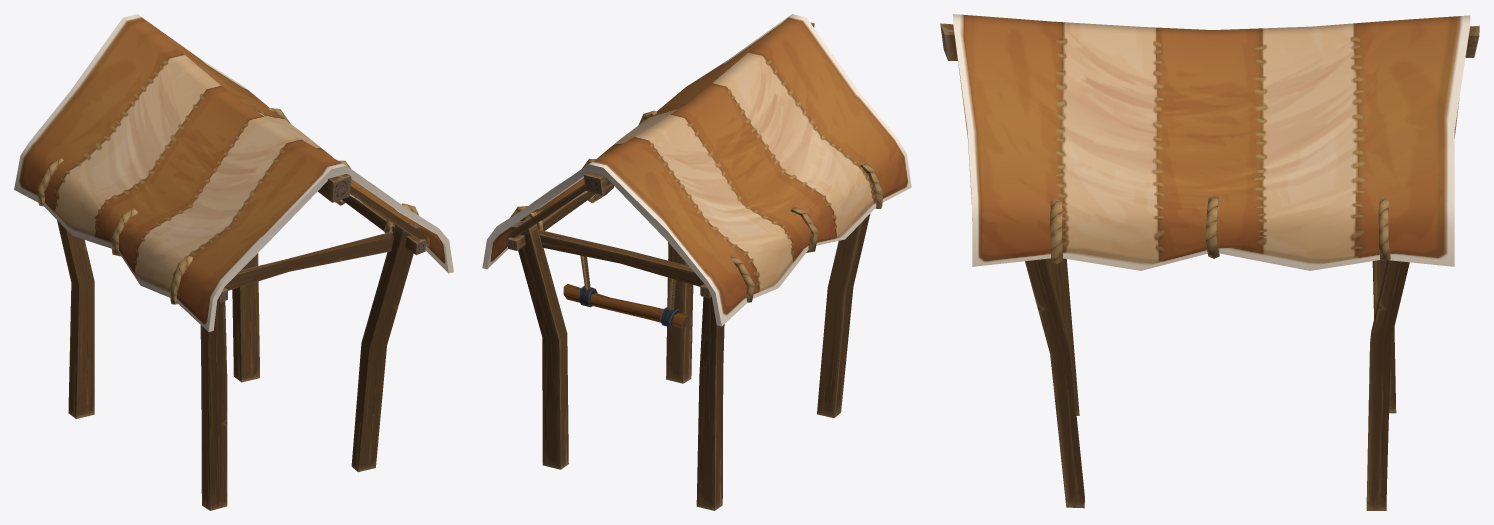
File: SM_PROP_cart_roof_city_01.fbx
3 views of the same model, side by side, from view 1: azimuth 30°, elevation 25°; view 2: azimuth 150°, elevation 25°; view 3: azimuth 270°, elevation 25° (orthographic). The views are drawn at different scales.
Parts seen in each view (by area): view 1: SM_PROP_cart_roof_city_01; view 2: SM_PROP_cart_roof_city_01; view 3: SM_PROP_cart_roof_city_01.
Part boxes in pixels (box(x1,y1,x2,y2)): SM_PROP_cart_roof_city_01: box(14, 14, 453, 510); SM_PROP_cart_roof_city_01: box(482, 14, 911, 510); SM_PROP_cart_roof_city_01: box(940, 14, 1479, 510).
Bounding box in the file's own units: 120 × 158 × 176.
